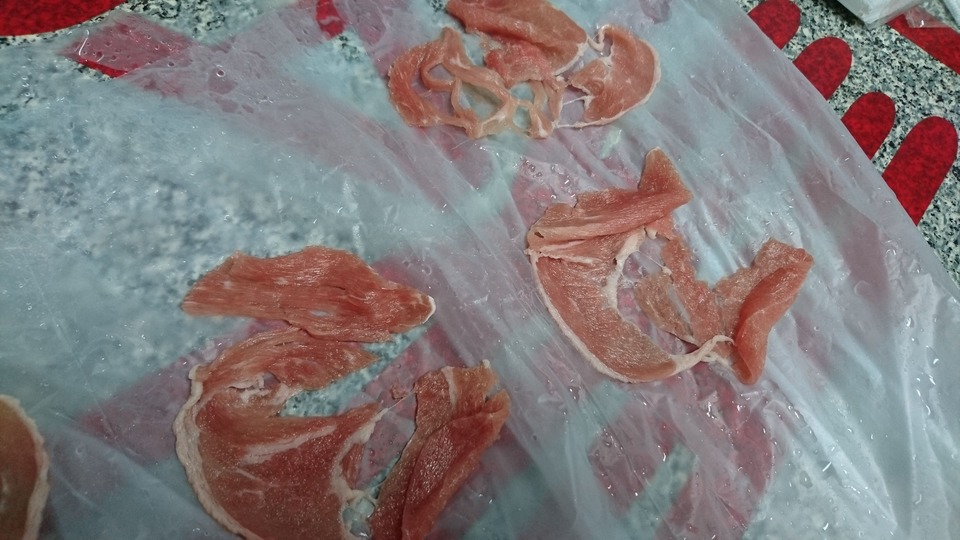restructured meat: (167, 239, 514, 540), (524, 146, 817, 397), (391, 1, 663, 136)
